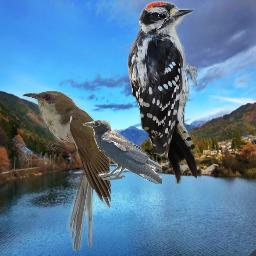Crow: (83, 120, 162, 184)
Cuckoo: (22, 89, 111, 251)
Woodpecker: (125, 1, 197, 184)
